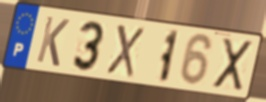1: (160, 28, 182, 86)
3: (72, 19, 106, 74)
6: (177, 32, 216, 90)
K: (34, 14, 72, 70)
X: (211, 36, 254, 93), (104, 22, 146, 80)
